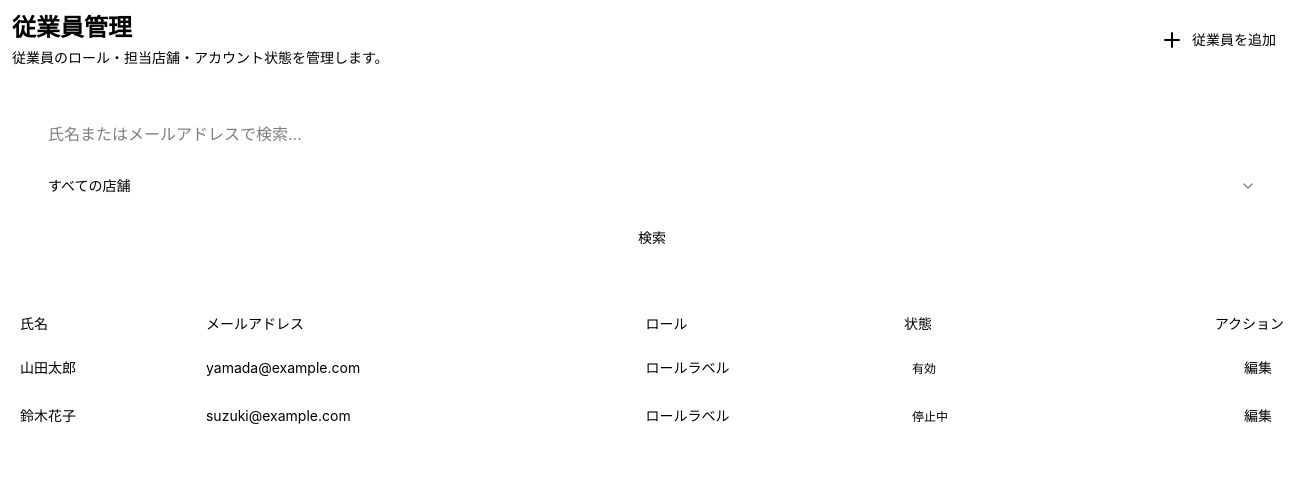
Test: 従業員管理ページ › クリアは検索語だけを空にし、店舗の絞り込みは保つこと
Check: the text "山田太郎" is shown, box [12,344,198,392]
Click the dropdown named "店舗で絞り込む" at [89, 186], box [36,168,1268,204]
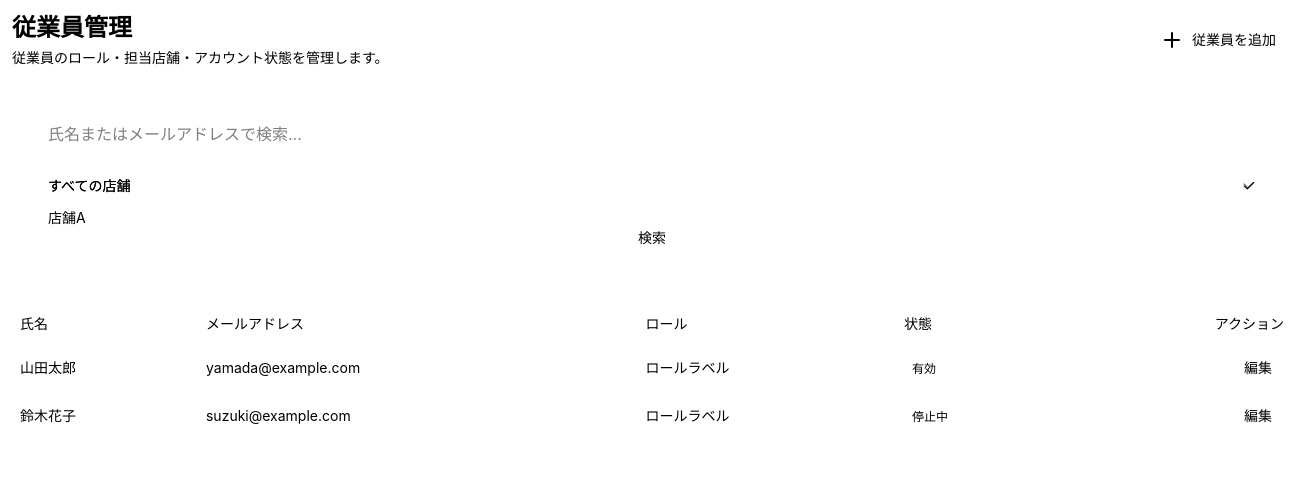
Click the option "店舗A" at [67, 218], box [48,209,86,226]
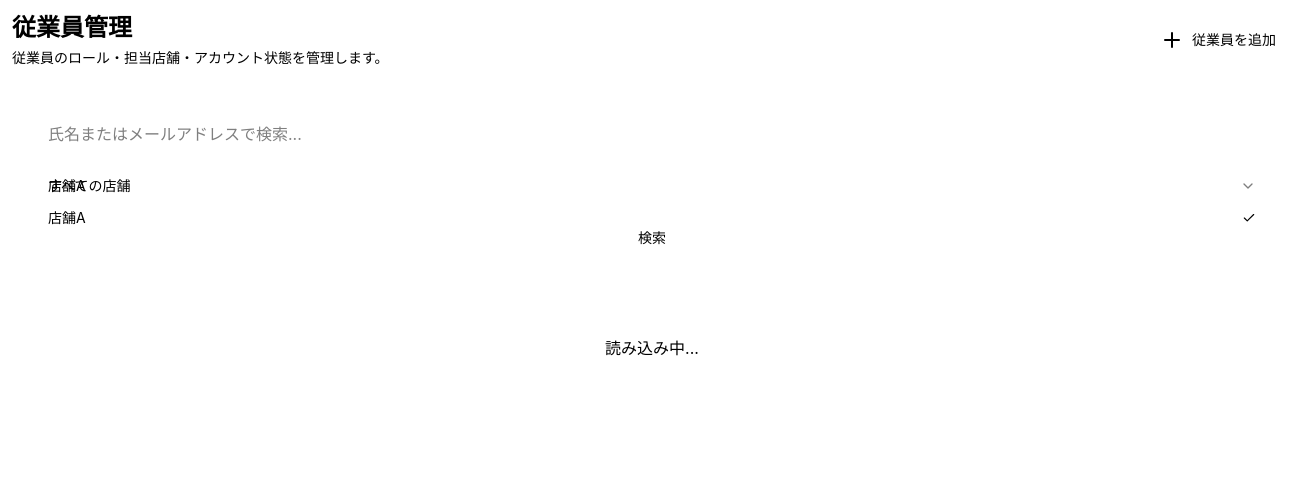
Type "山田" into the field named "従業員を検索" at [652, 134], box [36,116,1268,152]
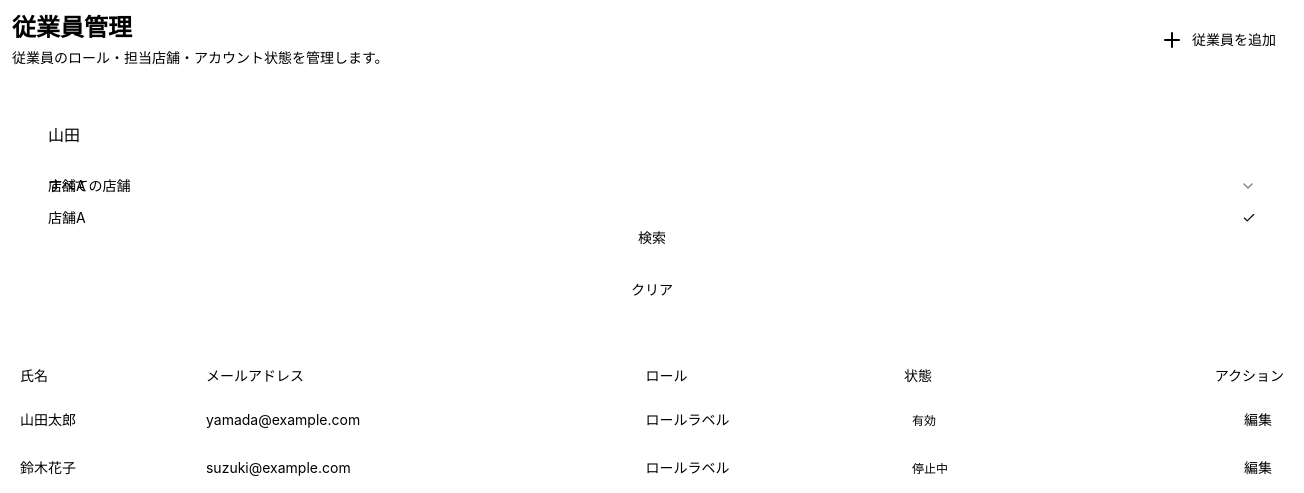
Click the button "検索" at [652, 238], box [36,220,1268,256]
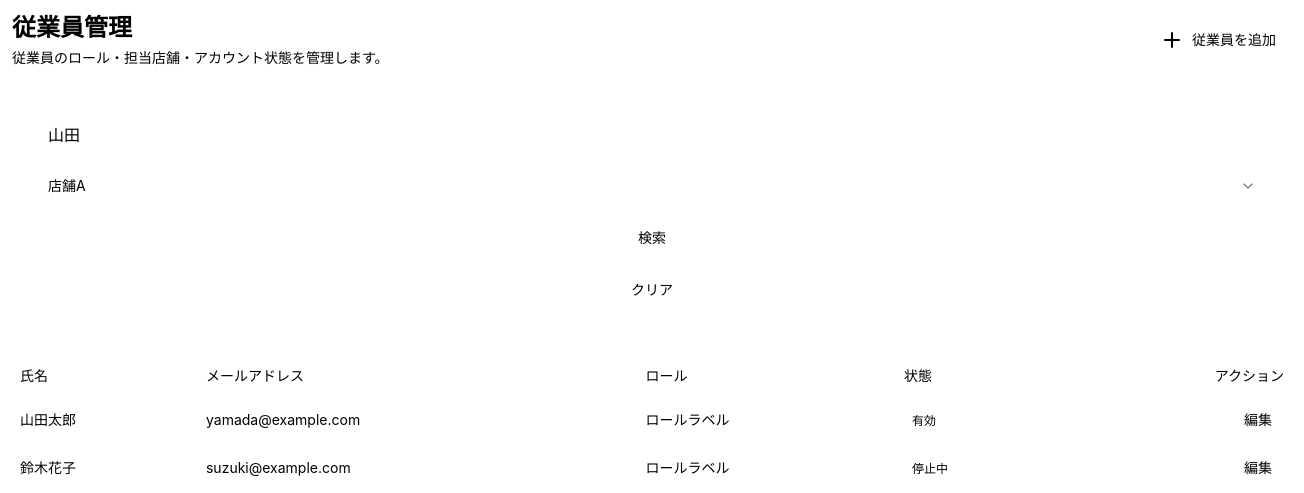
Click the button "クリア" at [652, 290], box [36,272,1268,308]
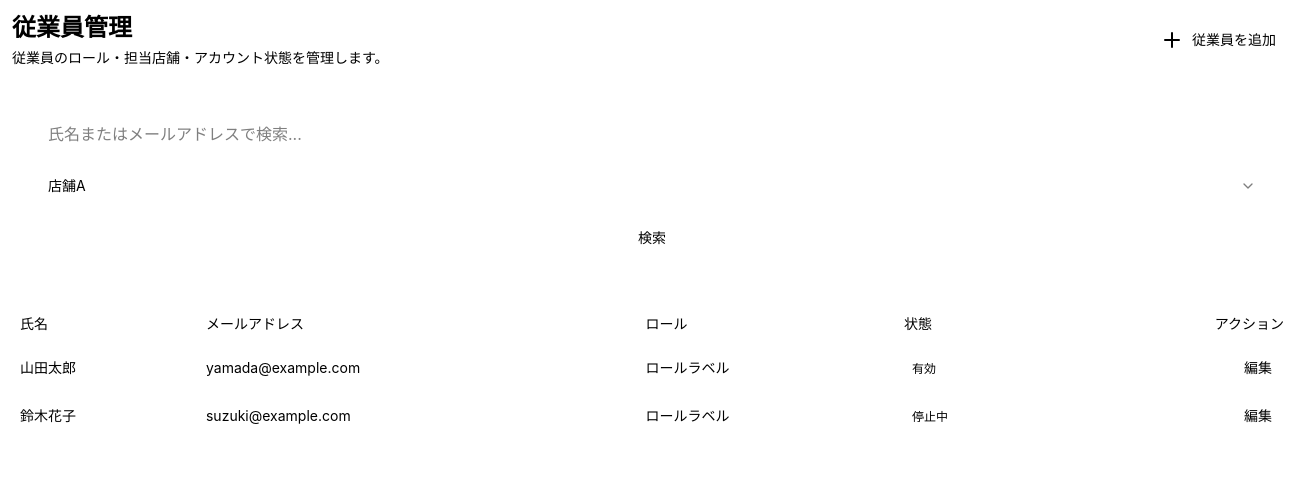
Check: the field named "従業員を検索" is empty, box [36,116,1268,152]
